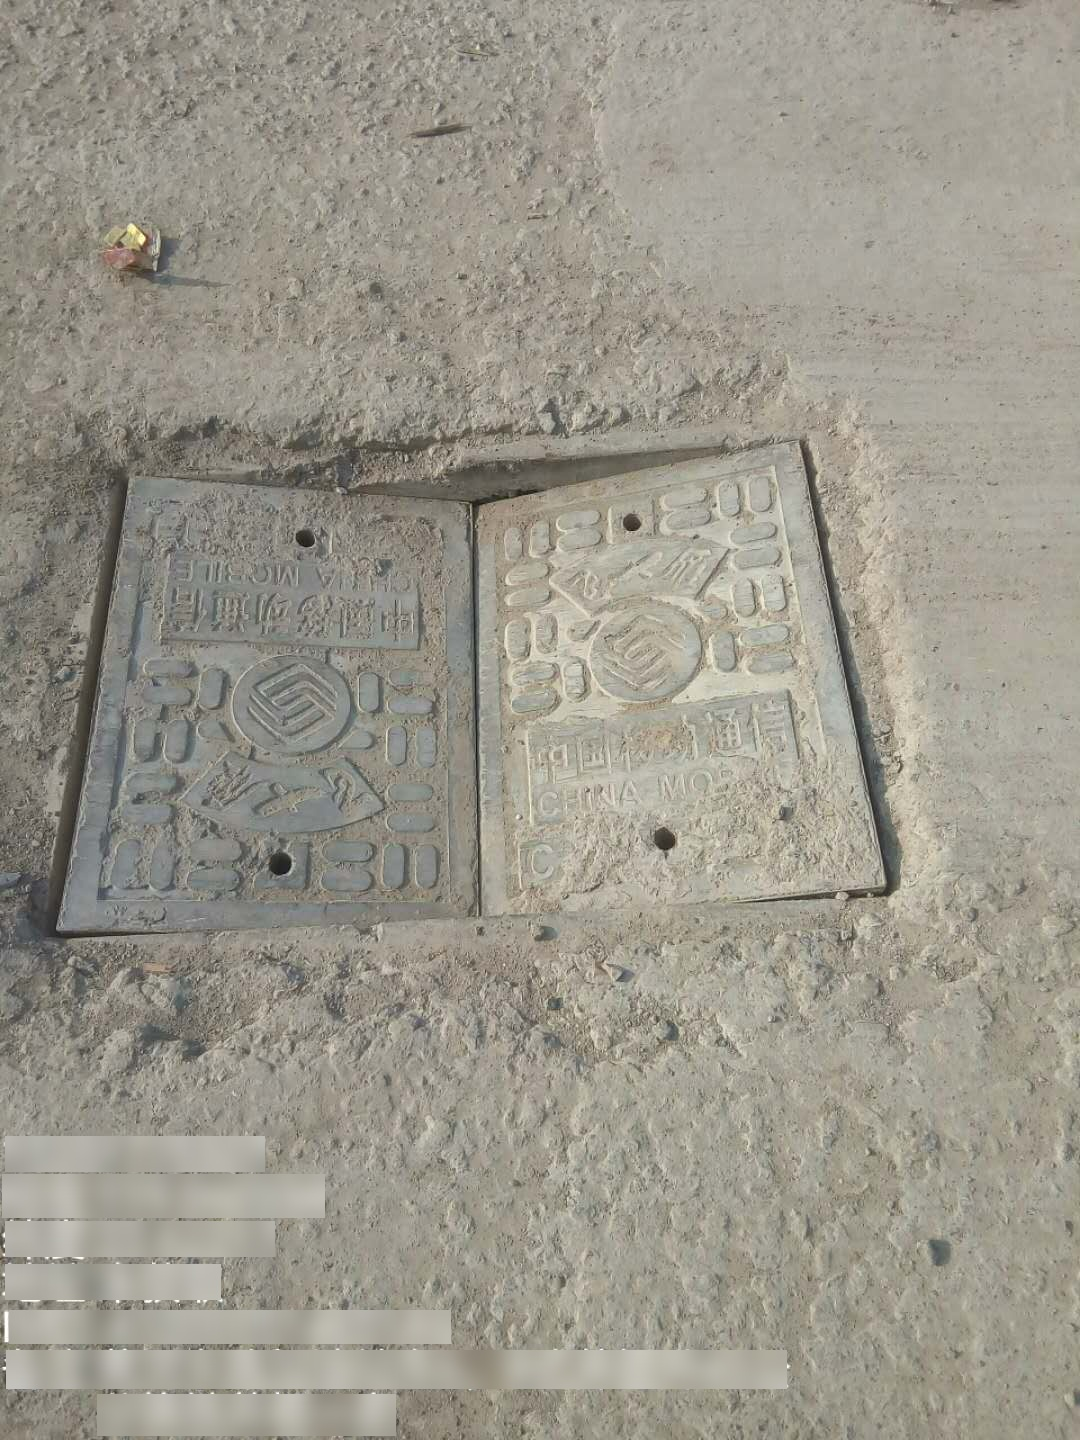uncovered: (45, 413, 923, 945)
